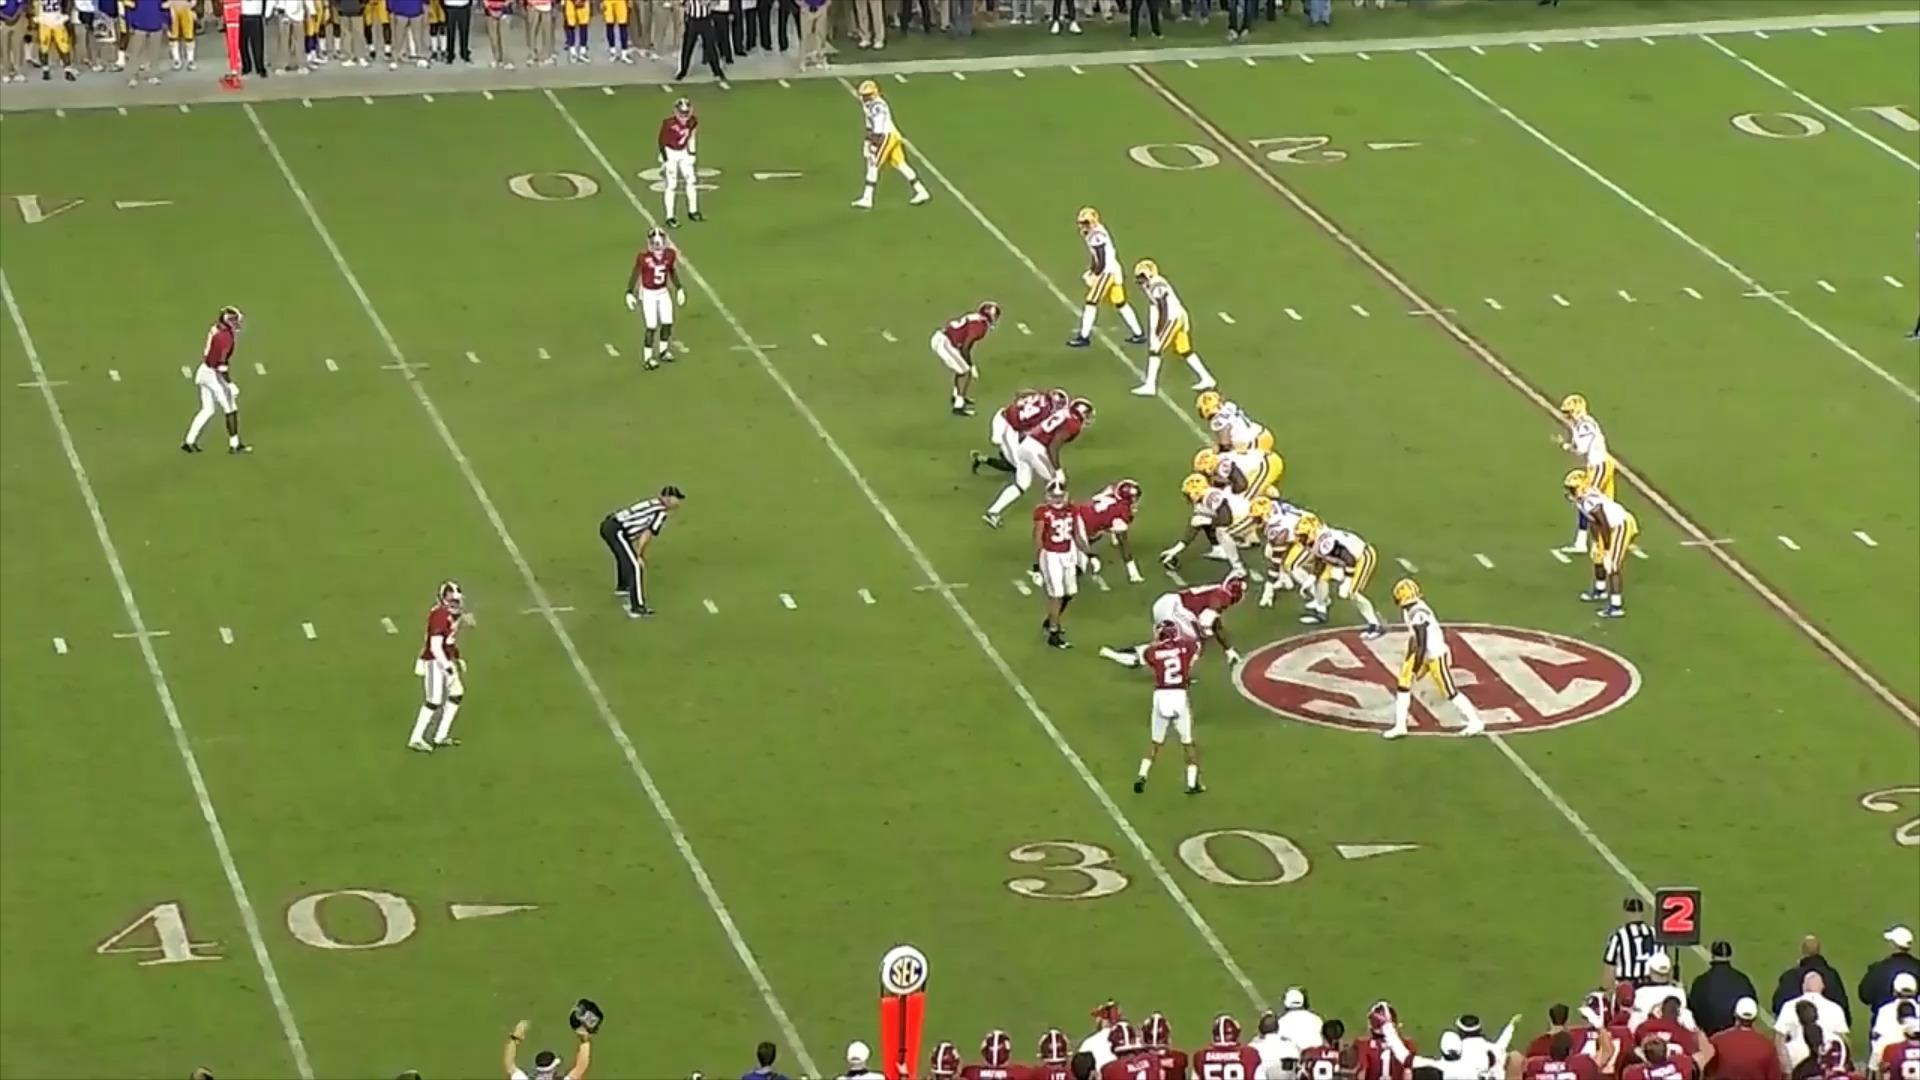10R: (1729, 102, 1920, 140)
20R: (1126, 135, 1422, 171), (1858, 785, 1920, 848)
30R: (1002, 828, 1422, 901), (505, 164, 806, 202)
40R: (97, 886, 540, 967), (0, 193, 174, 224)
